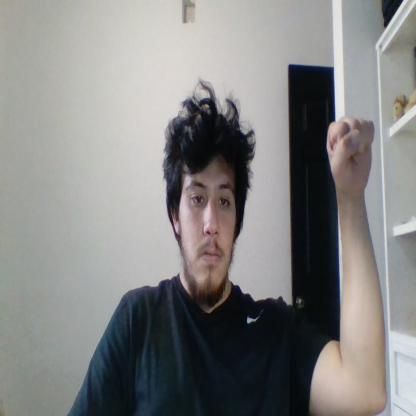S: (326, 115, 374, 192)
